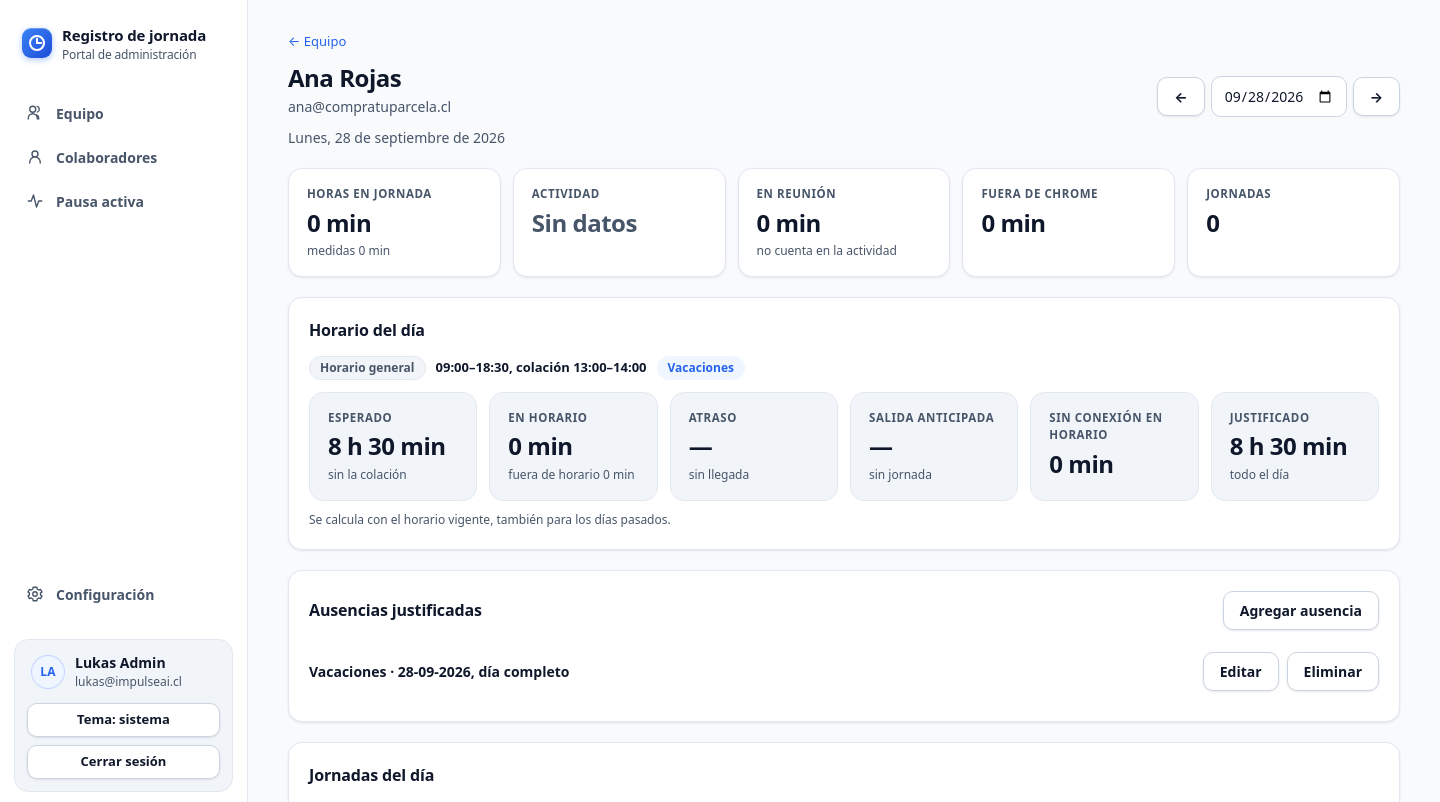
Detalle: ausencias justificadas › "Otro" needs a comment; deleting asks first
Expected: the list with test id "absence-list" is shown, [309, 642, 1379, 701]
Click the button "Agregar ausencia": (1301, 610) [1223, 591, 1379, 630]
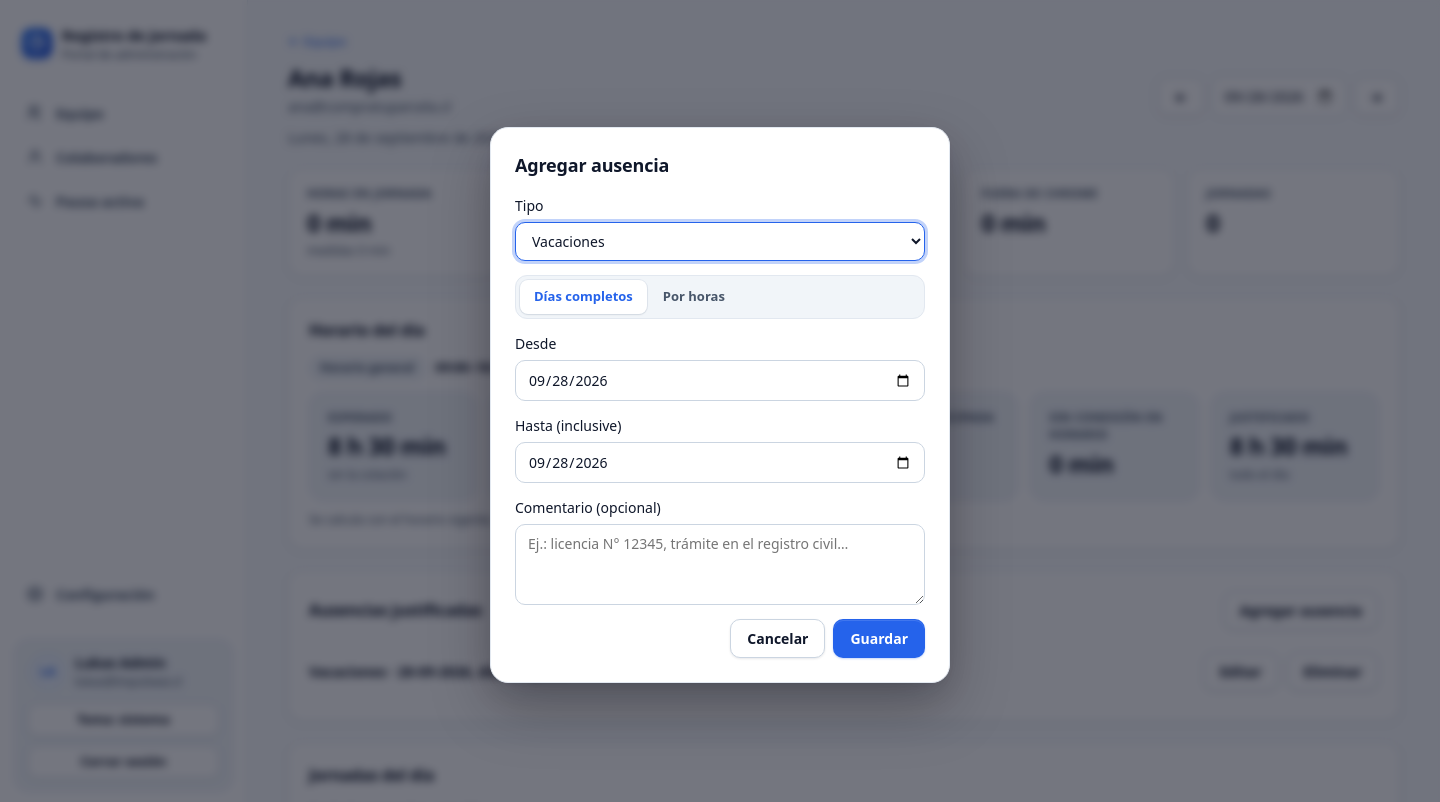
Select "Otro" in the dropdown labelled "Tipo": (720, 242) [515, 222, 925, 261]
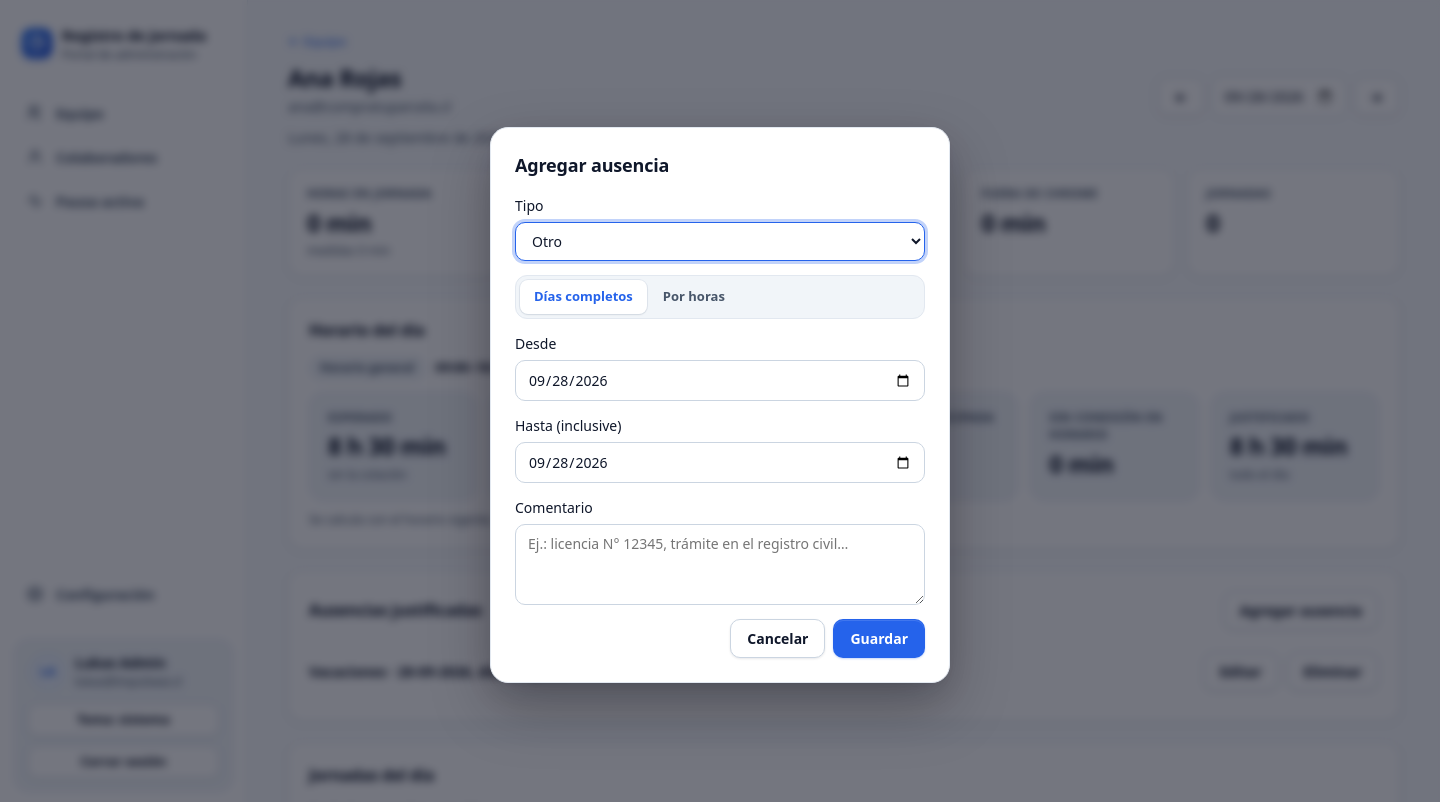
Click the button "Guardar": (879, 638) [834, 619, 925, 658]
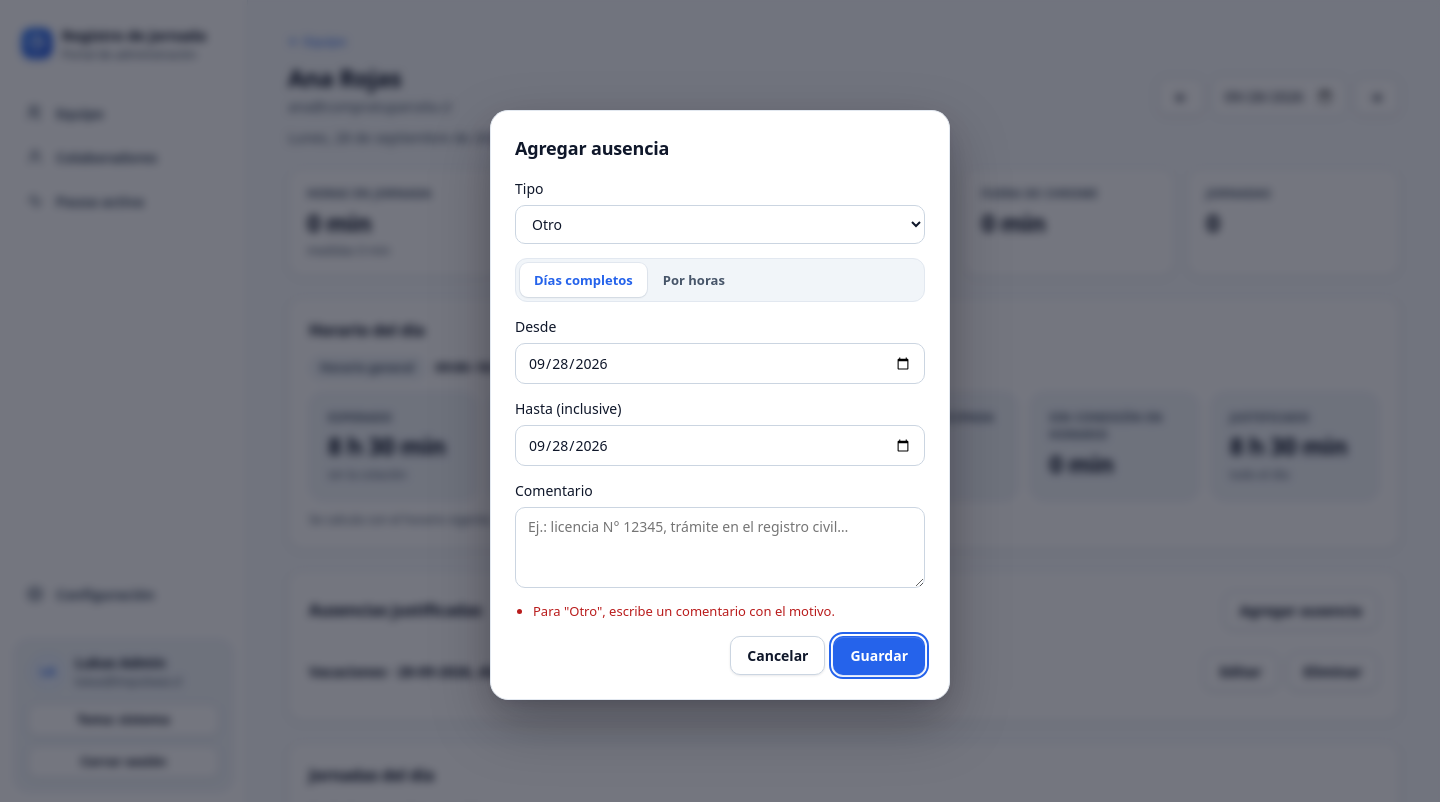
Result: the message shows "escribe un comentario" at [533, 602, 835, 620]
Click the button "Cancelar": (778, 655) [730, 636, 825, 675]
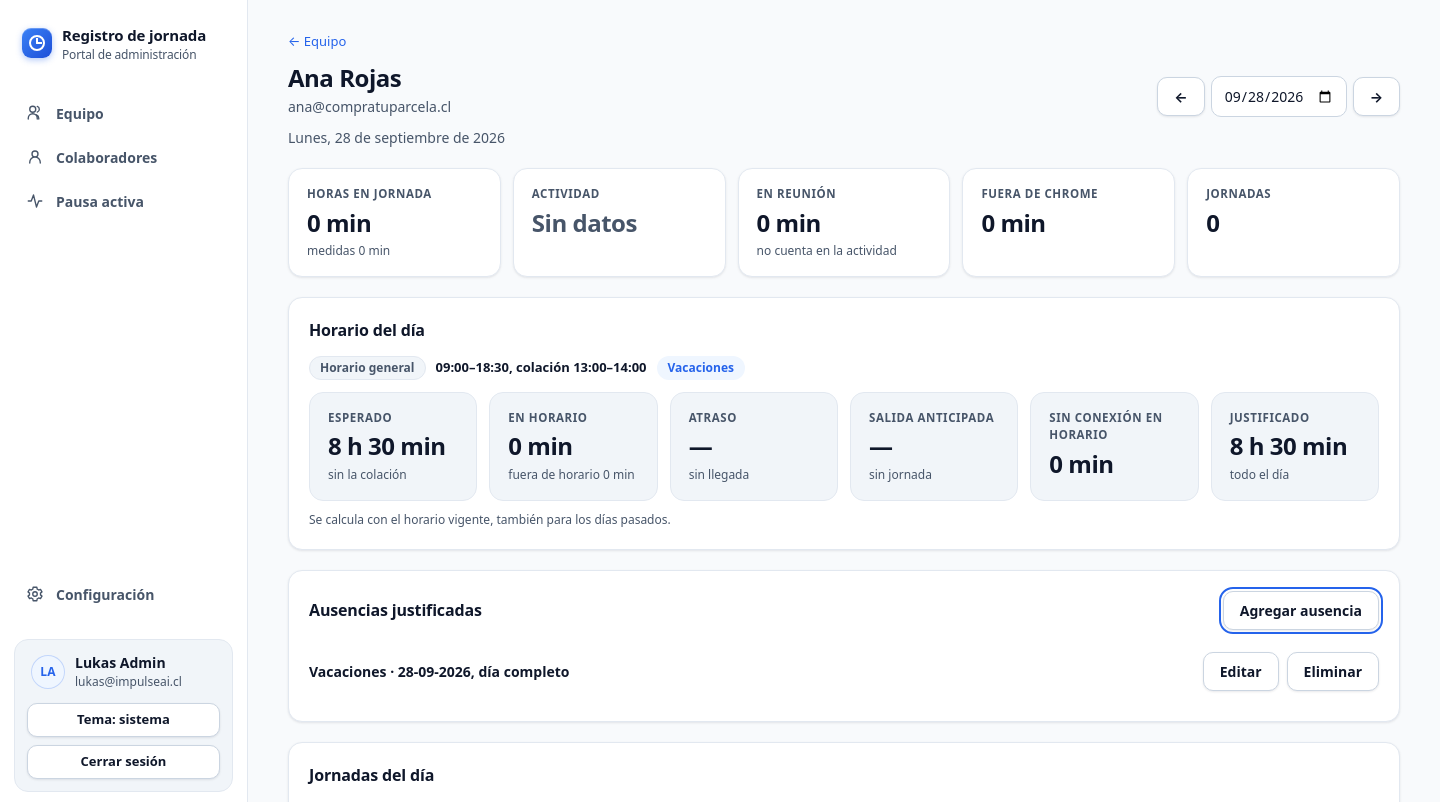
Click the button with aria-label "Eliminar Vacaciones · 28-09-2026, día completo": (1333, 672) [1287, 652, 1379, 691]
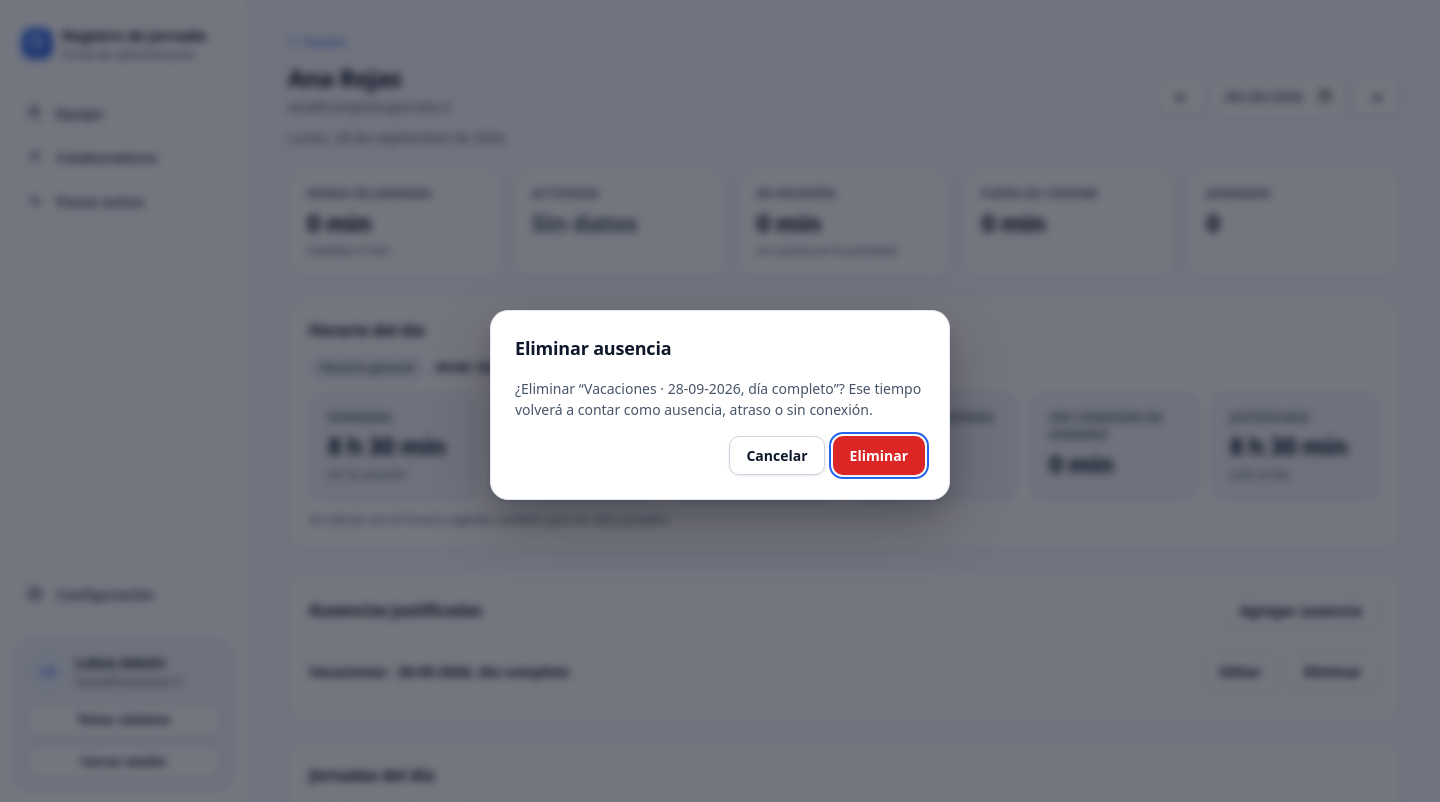
Click the button "Eliminar": (879, 456) [833, 436, 925, 475]
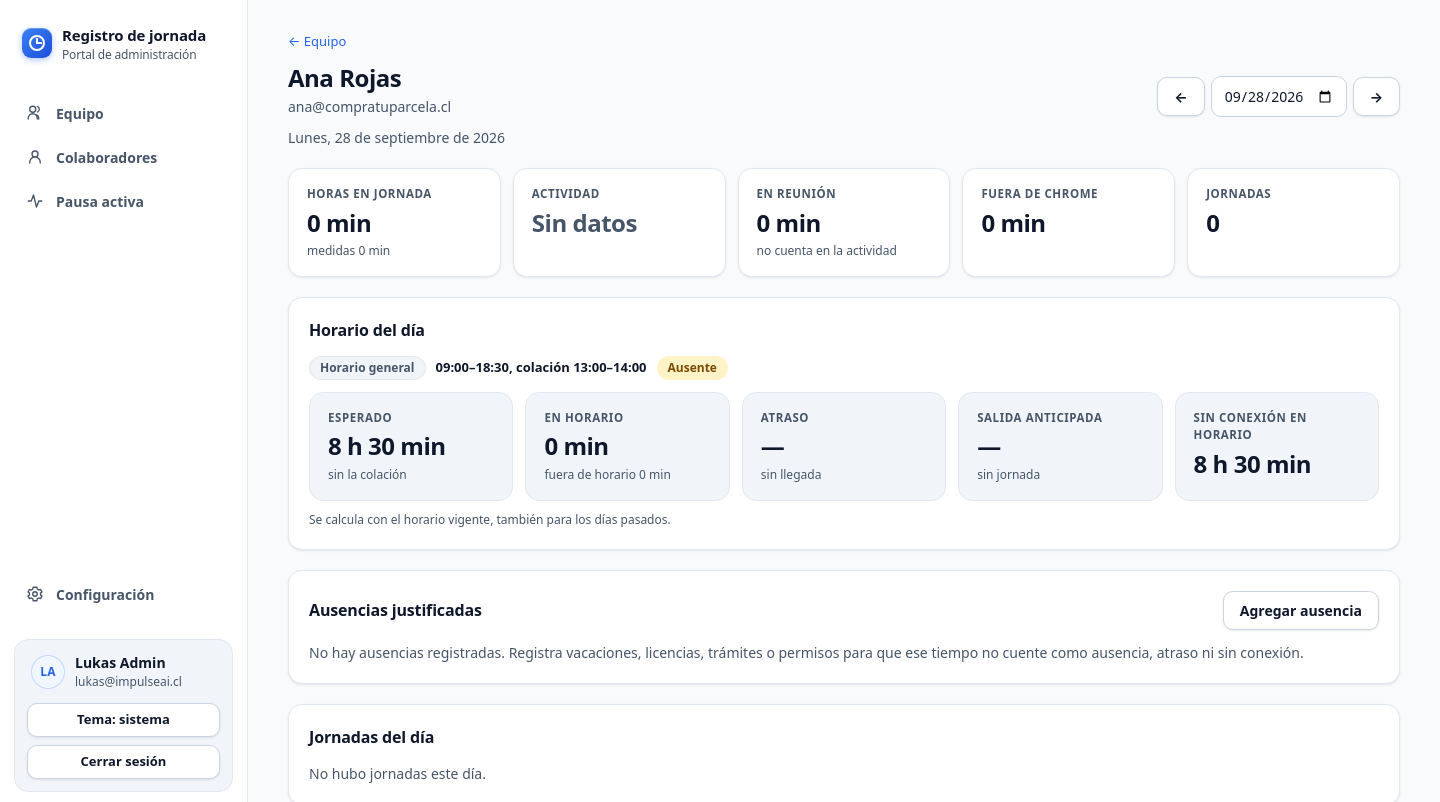
Result: the element with test id "day-schedule" shows "Ausente" at [668, 359, 717, 376]
